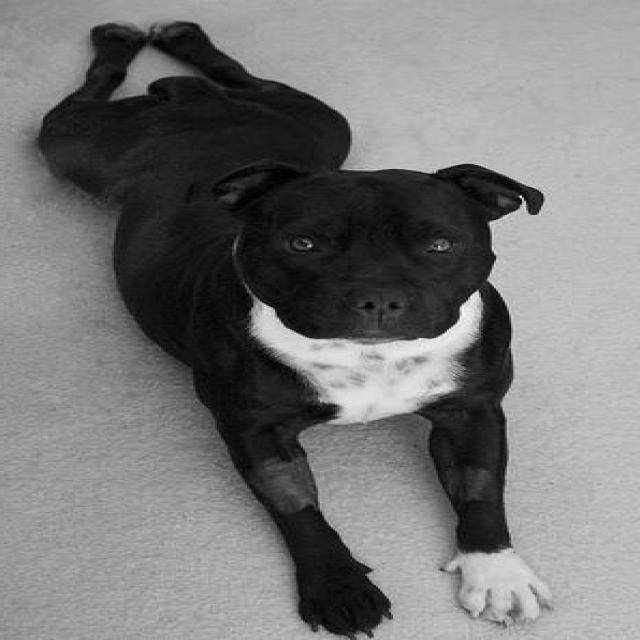staffordshire_bullterrier: (38, 20, 554, 638)
